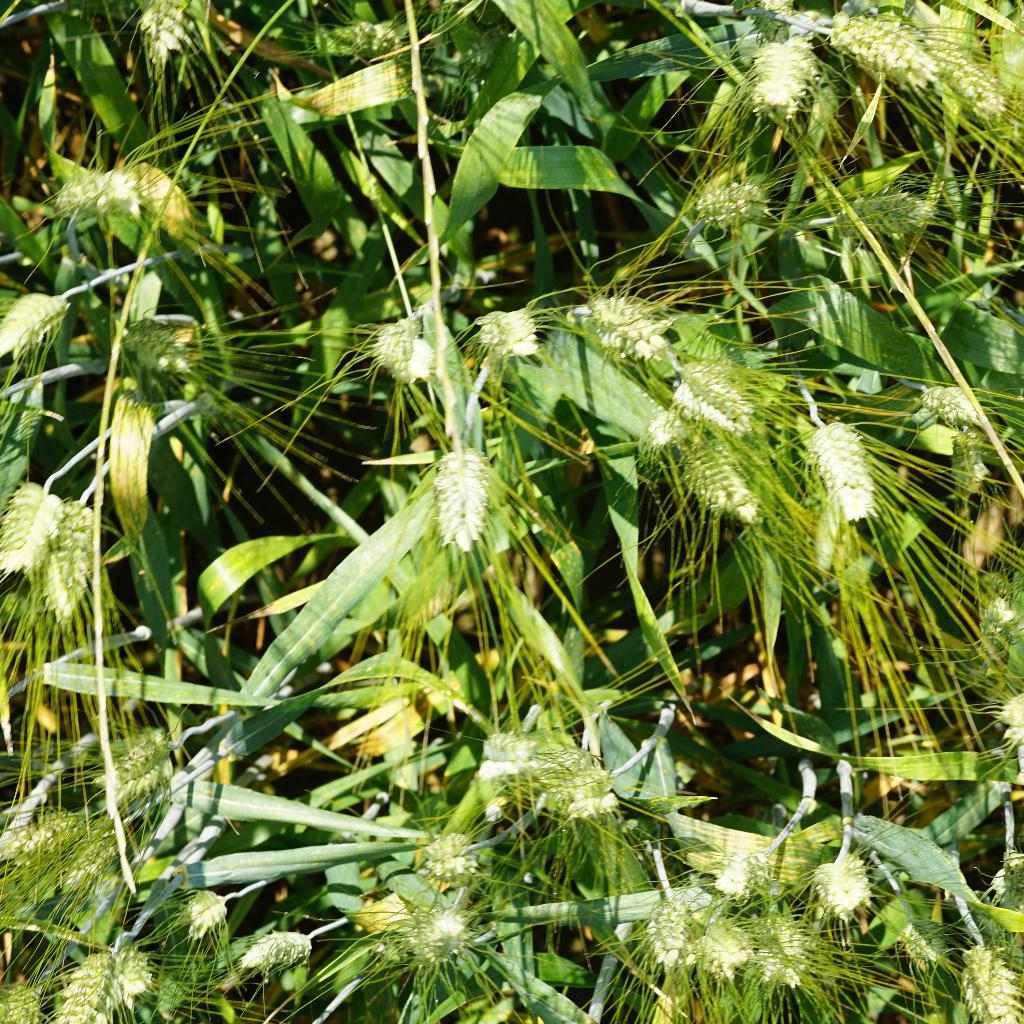0-0: (823, 8, 942, 93), (800, 406, 884, 526), (669, 434, 768, 530), (422, 432, 497, 552), (826, 176, 941, 249), (47, 142, 159, 216), (919, 32, 1013, 120), (666, 348, 750, 441), (791, 837, 886, 918), (737, 25, 819, 118), (542, 740, 636, 821), (49, 492, 107, 615), (918, 380, 1019, 447), (58, 807, 136, 893), (85, 733, 186, 799), (365, 309, 444, 392), (692, 169, 784, 238), (0, 273, 70, 363), (316, 0, 411, 64), (0, 476, 59, 575), (477, 295, 545, 377), (228, 919, 320, 979), (586, 292, 669, 358), (403, 826, 488, 890), (707, 821, 774, 901), (886, 888, 948, 974), (126, 326, 216, 385), (56, 940, 118, 1024), (125, 0, 192, 77), (752, 907, 808, 993), (470, 720, 541, 787), (643, 866, 691, 961), (4, 804, 85, 859), (407, 903, 479, 964), (975, 568, 1024, 650), (980, 673, 1024, 762), (698, 909, 752, 979), (168, 879, 240, 931), (988, 835, 1024, 932), (641, 393, 692, 460), (948, 425, 996, 496), (455, 19, 522, 68), (103, 941, 157, 1001), (0, 961, 49, 1024), (746, 0, 803, 51)
